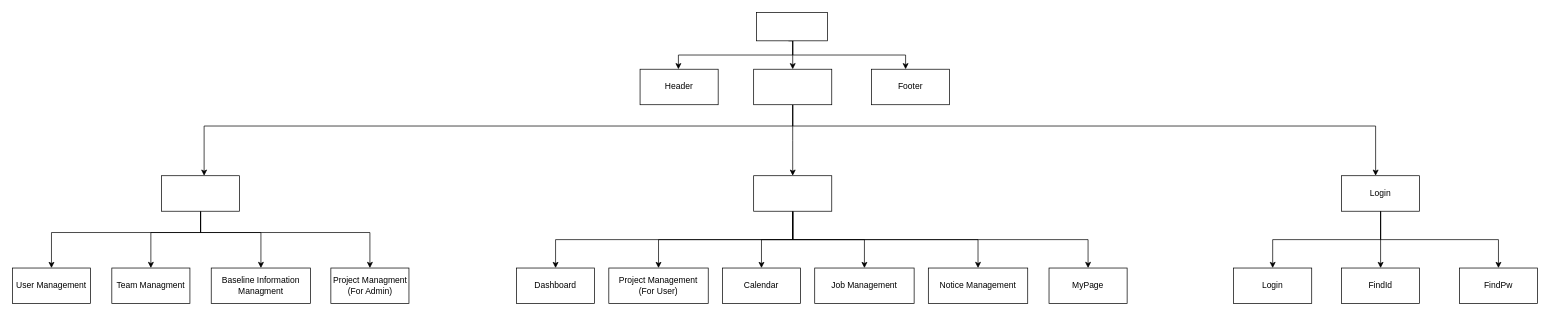
This 1550x316 diagram has some shape labels left out. The shapes that lost their labels are listed below. From the top down, each one's centre as x and y in pixels, then its label:
point 792,26: app
point 792,87: Contents
point 200,193: Manager
point 792,193: User
